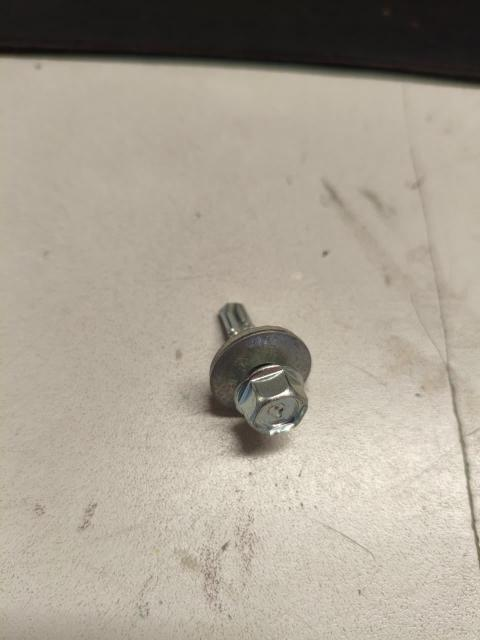Metal: (190, 298, 322, 437)
